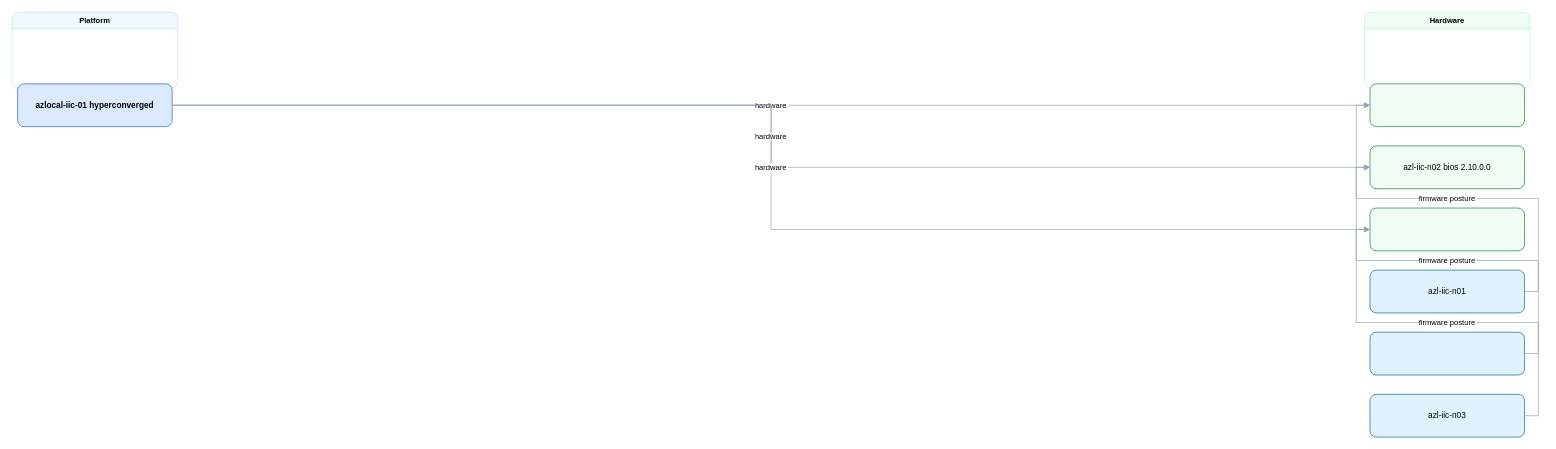
Some shapes in this 1556 by 449 pixel diagram are drawn without their labels. Here are the shapes that lost their labels. From the top down, the centre of each, then its label:
At (1447,105): "azl-iic-n01 bios 2.10.0.0".
At (1447,229): "azl-iic-n03 bios 2.10.0.0".
At (1447,353): "azl-iic-n02".
